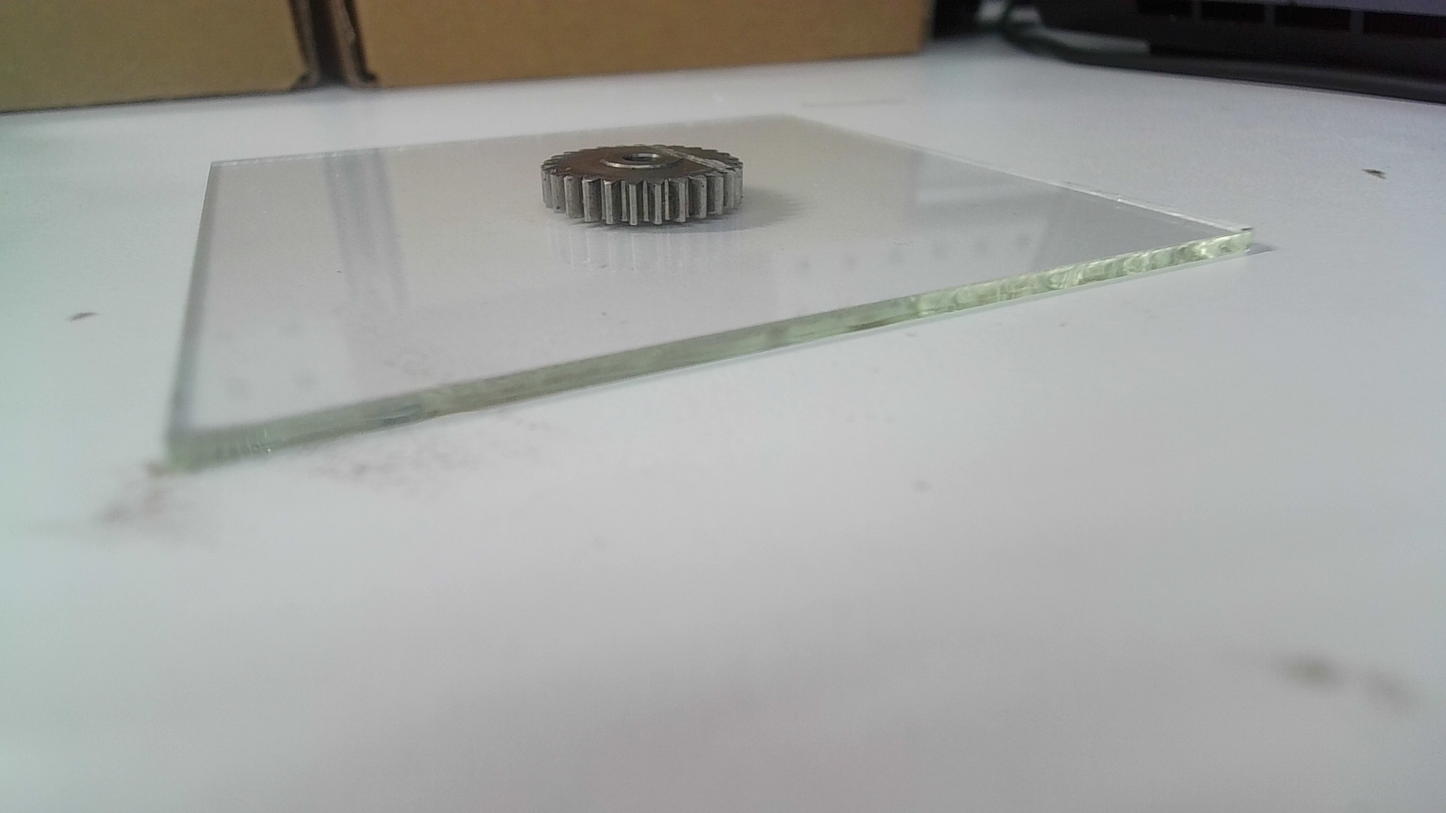gear: (538, 140, 750, 225)
